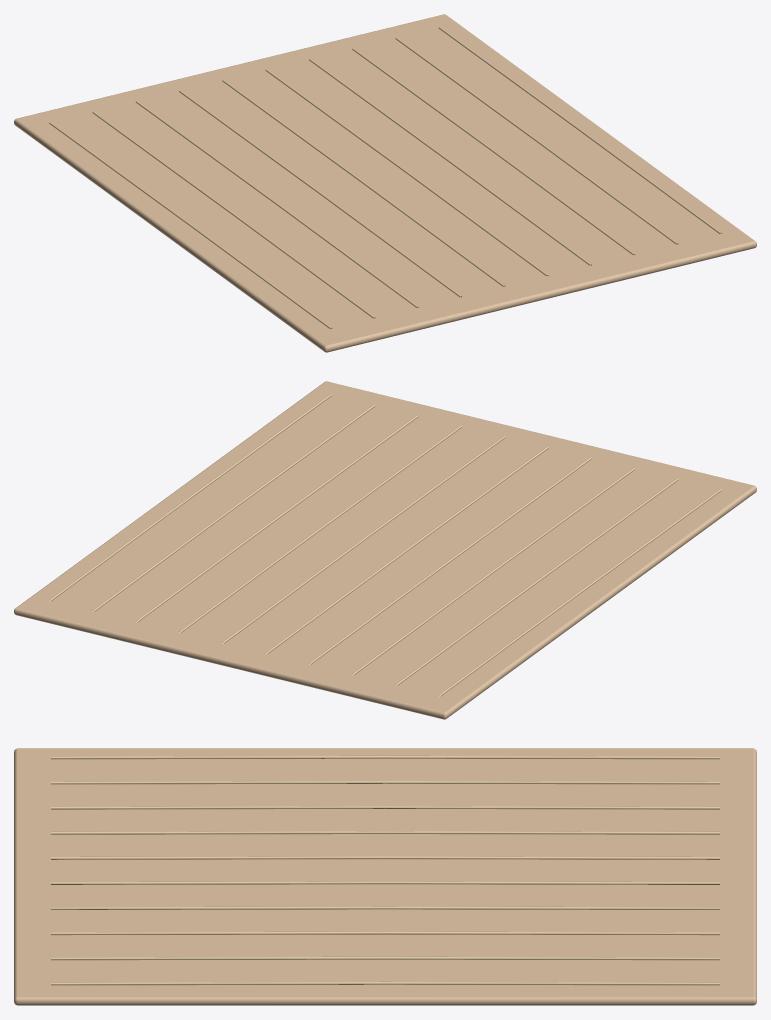
File: atelier-decorative-bedding.glb
3 renders of one model, top to bottom at view 1: azimuth 30°, elevation 25°; view 2: azimuth 150°, elevation 25°; view 3: azimuth 270°, elevation 25°, orthographic. The views are drawn at different scales.
Visible parts, largest first — view 1: bedding.018, accent.033; view 2: bedding.018, accent.033; view 3: bedding.018, accent.033.
Boxes of the visible parts, x1,y1,x2,y2 form: bedding.018: (14, 14, 756, 352); accent.033: (49, 27, 721, 329); bedding.018: (14, 381, 756, 719); accent.033: (49, 394, 721, 696); bedding.018: (14, 748, 756, 1005); accent.033: (51, 755, 719, 985).
Size of the model in its own units: 1.6 by 0.036 by 2.
